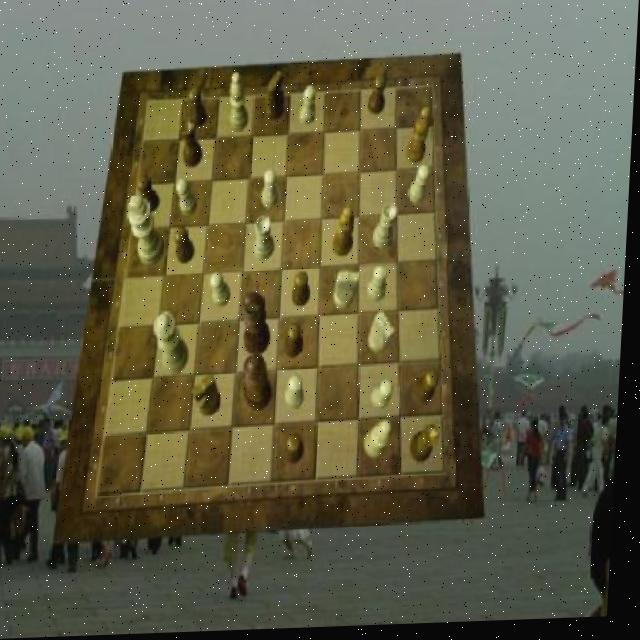bishop: (408, 110, 433, 169), (335, 209, 358, 261)
black-bishop: (244, 293, 277, 356)
black-king: (197, 374, 227, 418), (267, 73, 288, 125)
black-knight: (139, 177, 164, 215), (188, 89, 209, 130), (177, 226, 199, 264), (420, 373, 444, 407), (369, 78, 387, 118), (295, 274, 314, 310), (288, 435, 309, 467), (288, 326, 307, 361)
black-pawn: (246, 356, 278, 415)
black-queen: (180, 120, 206, 170), (414, 426, 443, 466)
black-rook: (230, 74, 252, 135), (368, 423, 397, 462)
white-bishop: (127, 195, 169, 268)
white-king: (371, 314, 400, 357), (338, 274, 364, 313)
white-knight: (177, 180, 201, 218), (410, 167, 432, 208), (212, 275, 234, 310), (289, 377, 310, 412), (370, 267, 389, 305), (375, 382, 399, 412), (264, 172, 282, 212), (300, 87, 318, 126)
white-pawn: (155, 312, 194, 378)
white-queen: (375, 206, 401, 253), (256, 218, 279, 264)
